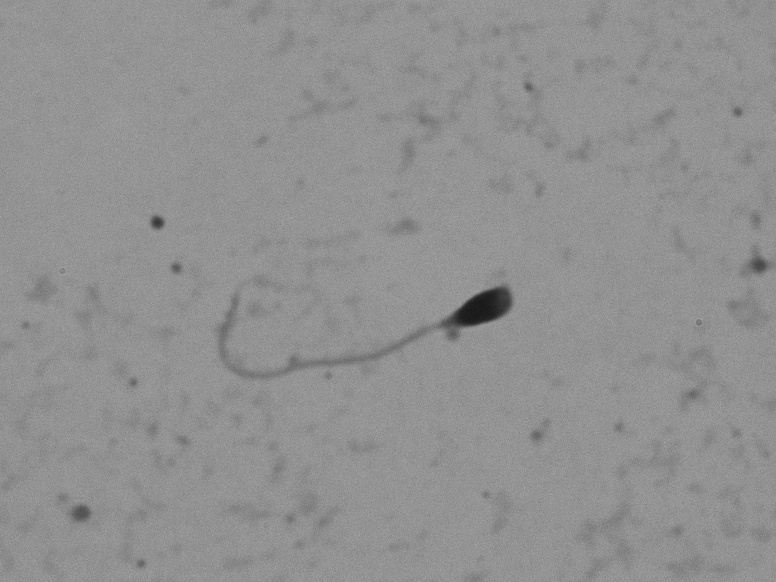Abnormal: (198, 235, 545, 404)
